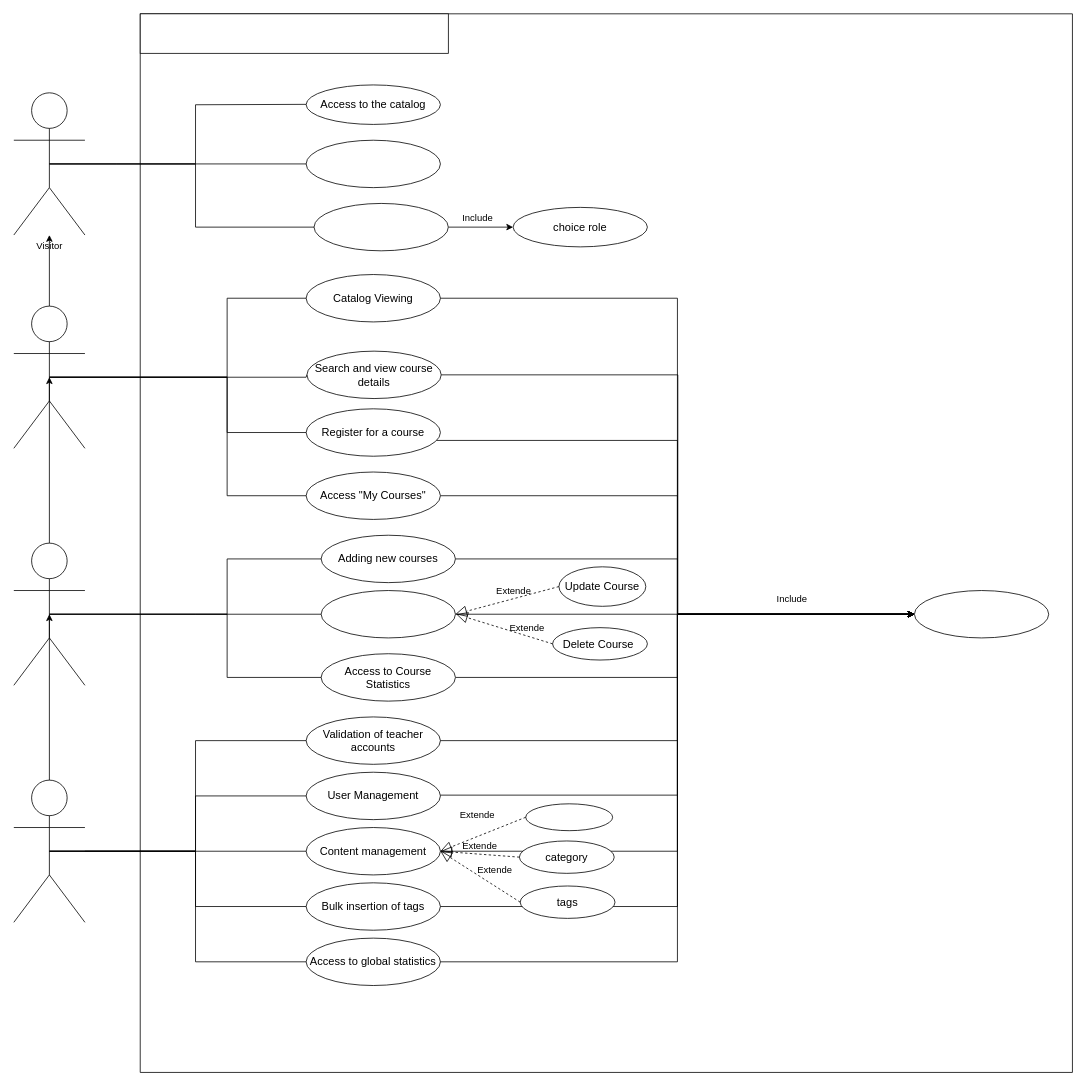
Image size: 1086x1086. Some labels were removed from this diagram. The box of each missing label's shape, as (x1, y1, x2, y2) in pixels:
Admin: (13, 779, 85, 922)
Authentification: (914, 590, 1049, 638)
Course: (525, 803, 613, 831)
Course management: (320, 590, 455, 638)
Creating an account: (313, 203, 448, 251)
Search courses by keywords: (305, 139, 440, 188)
Student: (13, 305, 85, 448)
System de gestion de platform Youdemy: (139, 13, 448, 53)
Teacher: (13, 542, 85, 685)
